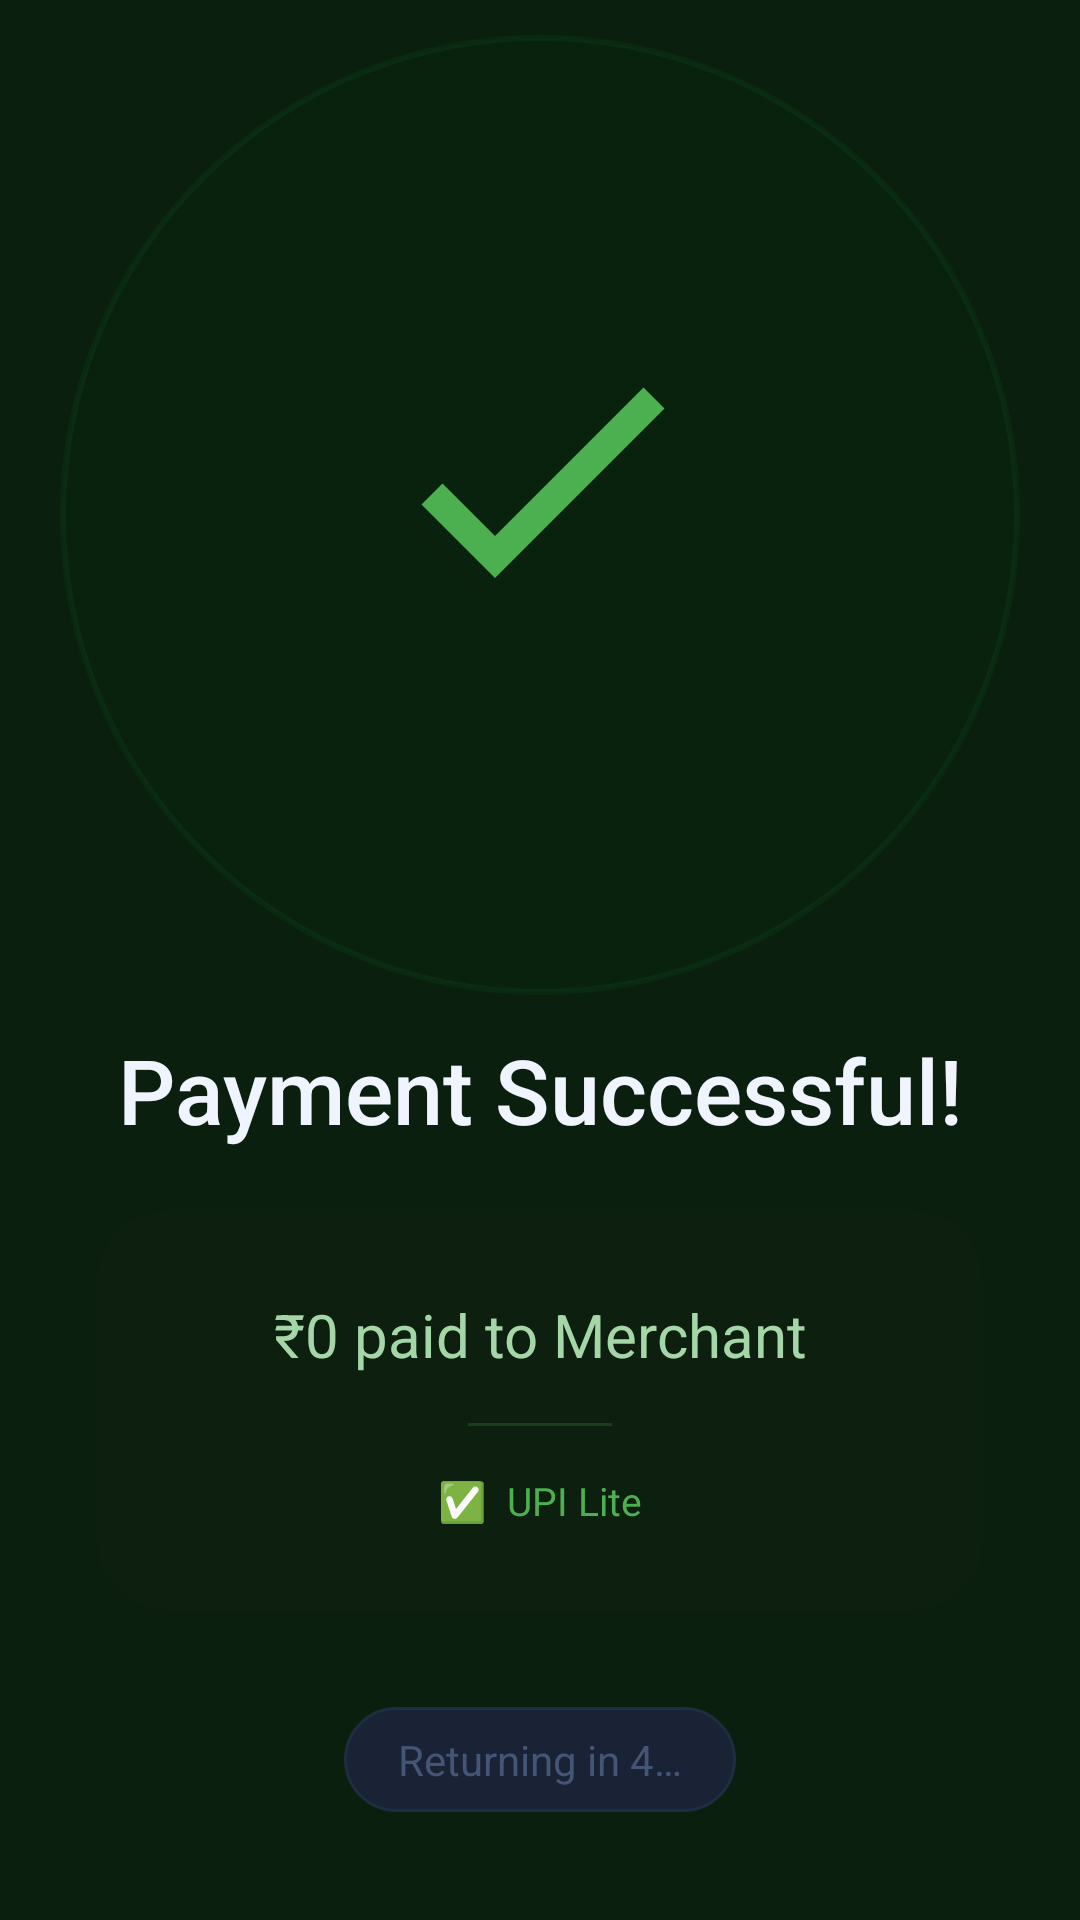

Where to tap for icons on this 1080×1920 app screen, as [x,y]:
Success Tick: [543,482]
